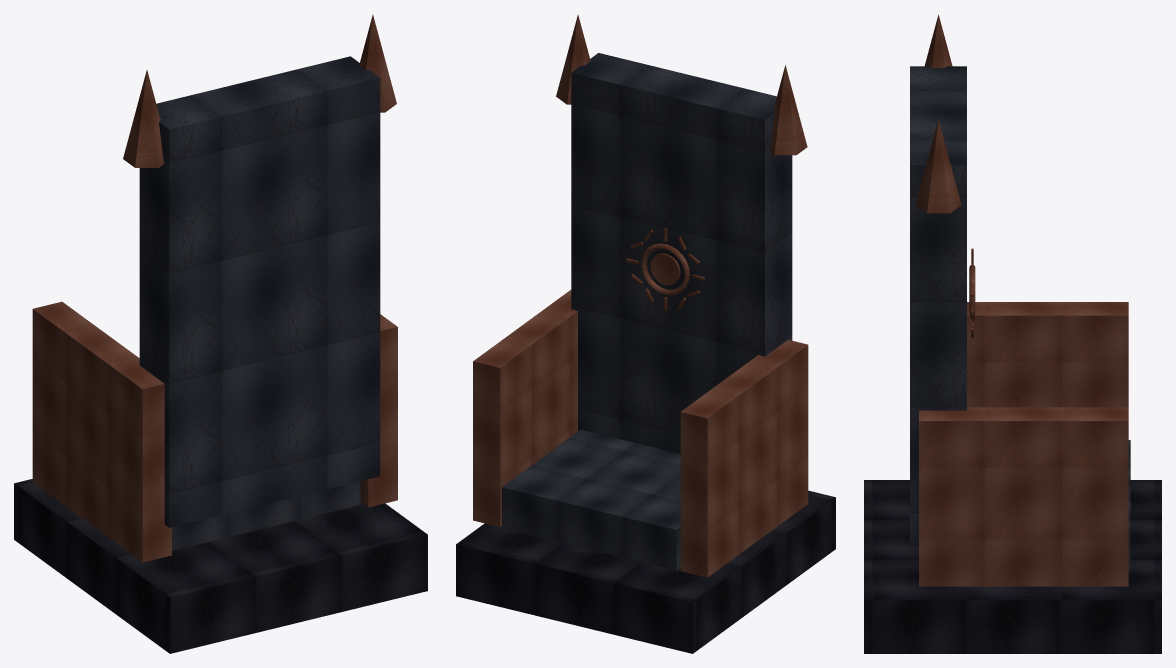
File: blackstone-attendant-seat.glb
3 renders of one model, left to right at view 1: azimuth 30°, elevation 25°; view 2: azimuth 150°, elevation 25°; view 3: azimuth 270°, elevation 25°, orthographic. The views are drawn at different scales.
Parts seen in each view (by area): view 1: Seat_Back, Seat_Base, Seat_Arm_-1, Seat_Cushion, Seat_Arm_1, Seat_Finial_-1, Seat_Finial_1; view 2: Seat_Back, Seat_Base, Seat_Arm_-1, Seat_Cushion, Seat_Arm_1, Seat_Finial_-1, Seat_Finial_1, Seat_Sigil_Ring, Seat_Sigil_Disc; view 3: Seat_Arm_1, Seat_Base, Seat_Back, Seat_Arm_-1, Seat_Finial_1, Seat_Finial_-1.
Part boxes in pixels (x1,y1,x2,y2): Seat_Back: (139, 56, 380, 527); Seat_Base: (14, 479, 427, 653); Seat_Arm_-1: (32, 301, 171, 562); Seat_Cushion: (172, 481, 360, 550); Seat_Arm_1: (360, 314, 397, 507); Seat_Finial_-1: (123, 70, 163, 167); Seat_Finial_1: (359, 14, 396, 112); Seat_Back: (571, 53, 792, 453); Seat_Base: (456, 490, 835, 653); Seat_Arm_-1: (680, 339, 808, 577); Seat_Cushion: (502, 429, 680, 570); Seat_Arm_1: (473, 290, 577, 526); Seat_Finial_-1: (770, 65, 807, 155); Seat_Finial_1: (556, 14, 590, 104); Seat_Sigil_Ring: (641, 243, 689, 295); Seat_Sigil_Disc: (650, 253, 680, 285); Seat_Arm_1: (919, 407, 1128, 586); Seat_Base: (864, 480, 1161, 653); Seat_Back: (910, 66, 966, 544); Seat_Arm_-1: (967, 302, 1128, 407); Seat_Finial_1: (915, 120, 961, 213); Seat_Finial_-1: (924, 14, 952, 67).
Bounding box in the file's own units: 2.13 × 4.3 × 2.2.
3 materials, 3 textured.
